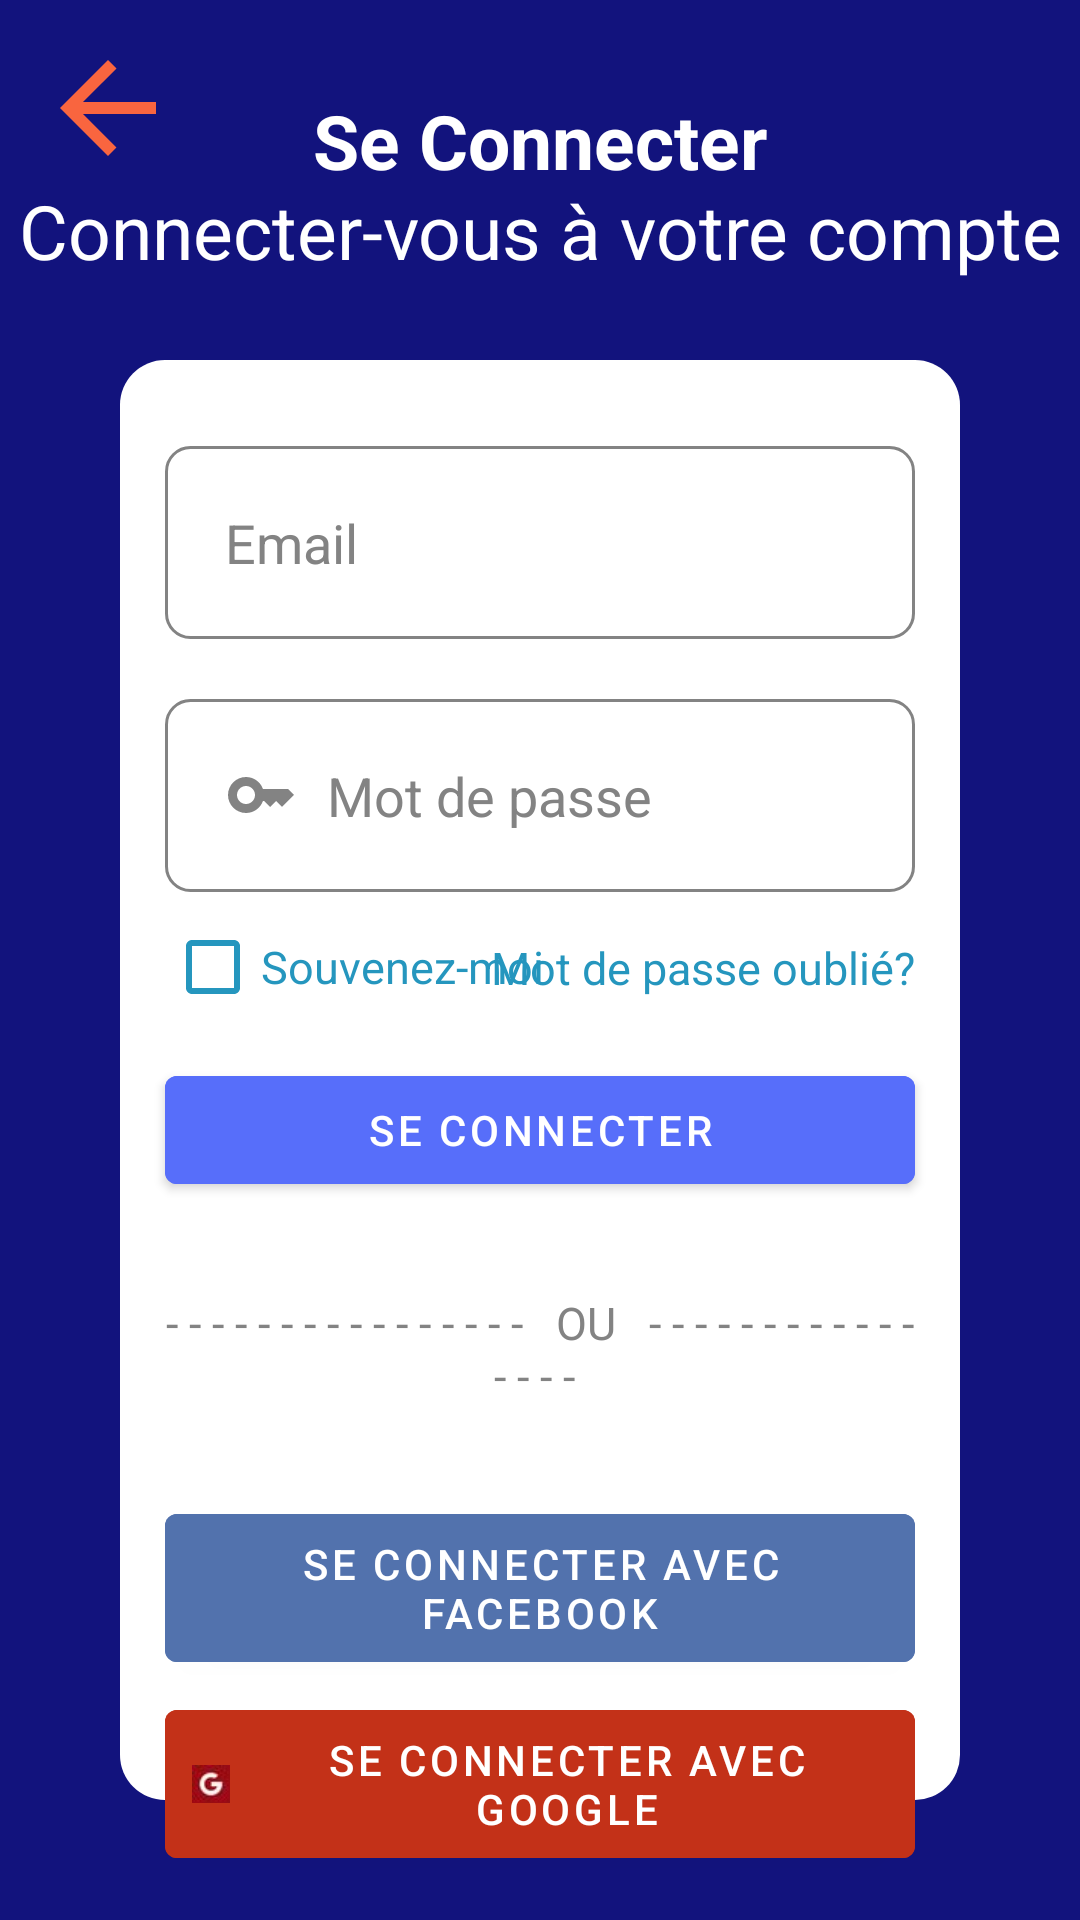

Where icons sit on this 1080 × 1920 app screen, as bbox=(x1, y1, x2, y2):
arrow back: bbox=(60, 60, 156, 156)
